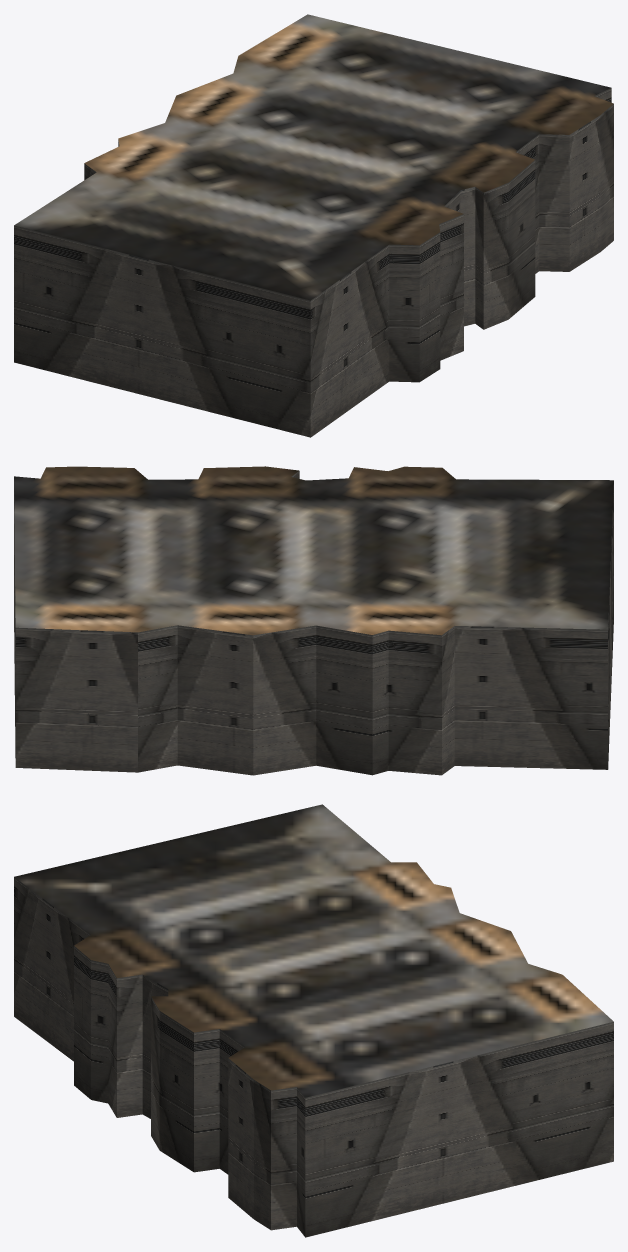
Rendered from fortress_heavy_a_02.glb.
3 views of the same model, one above another, from view 1: azimuth 30°, elevation 25°; view 2: azimuth 150°, elevation 25°; view 3: azimuth 270°, elevation 25° (orthographic). The views are drawn at different scales.
Visible parts, largest first — view 1: buildings/saxarba/fortress_heavy/fortress_heavy_a_02; view 2: buildings/saxarba/fortress_heavy/fortress_heavy_a_02; view 3: buildings/saxarba/fortress_heavy/fortress_heavy_a_02.
Part boxes in pixels (x1,y1,x2,y2): buildings/saxarba/fortress_heavy/fortress_heavy_a_02: (14, 14, 613, 437); buildings/saxarba/fortress_heavy/fortress_heavy_a_02: (14, 466, 613, 775); buildings/saxarba/fortress_heavy/fortress_heavy_a_02: (14, 804, 613, 1237).
Size of the model in its own units: 81 by 18 by 70.
